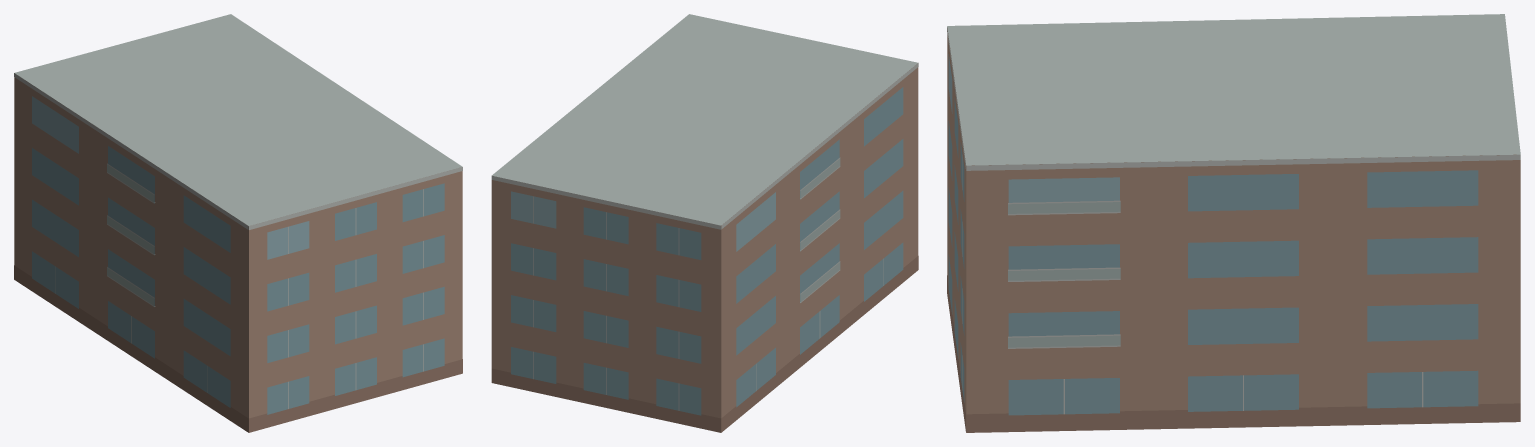
The model's file is survey-upis-32925827.glb.
The picture shows the model from 3 angles, left to right: view 1: azimuth 30°, elevation 25°; view 2: azimuth 150°, elevation 25°; view 3: azimuth 270°, elevation 25°; orthographic projection. The views are drawn at different scales.
Visible parts, largest first — view 1: survey-upis-32925827.tmp; view 2: survey-upis-32925827.tmp; view 3: survey-upis-32925827.tmp.
Boxes of the visible parts, left/top/right/bottom form: survey-upis-32925827.tmp: left=14, top=14, right=462, bottom=432; survey-upis-32925827.tmp: left=491, top=14, right=918, bottom=432; survey-upis-32925827.tmp: left=947, top=14, right=1520, bottom=432.
Size of the model in its own units: 14.84 by 12.2 by 23.74.
